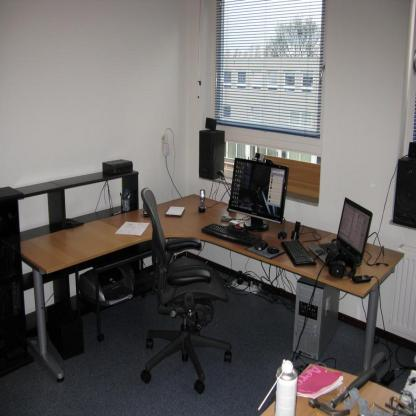board: (307, 197, 373, 266), (256, 359, 297, 416)
